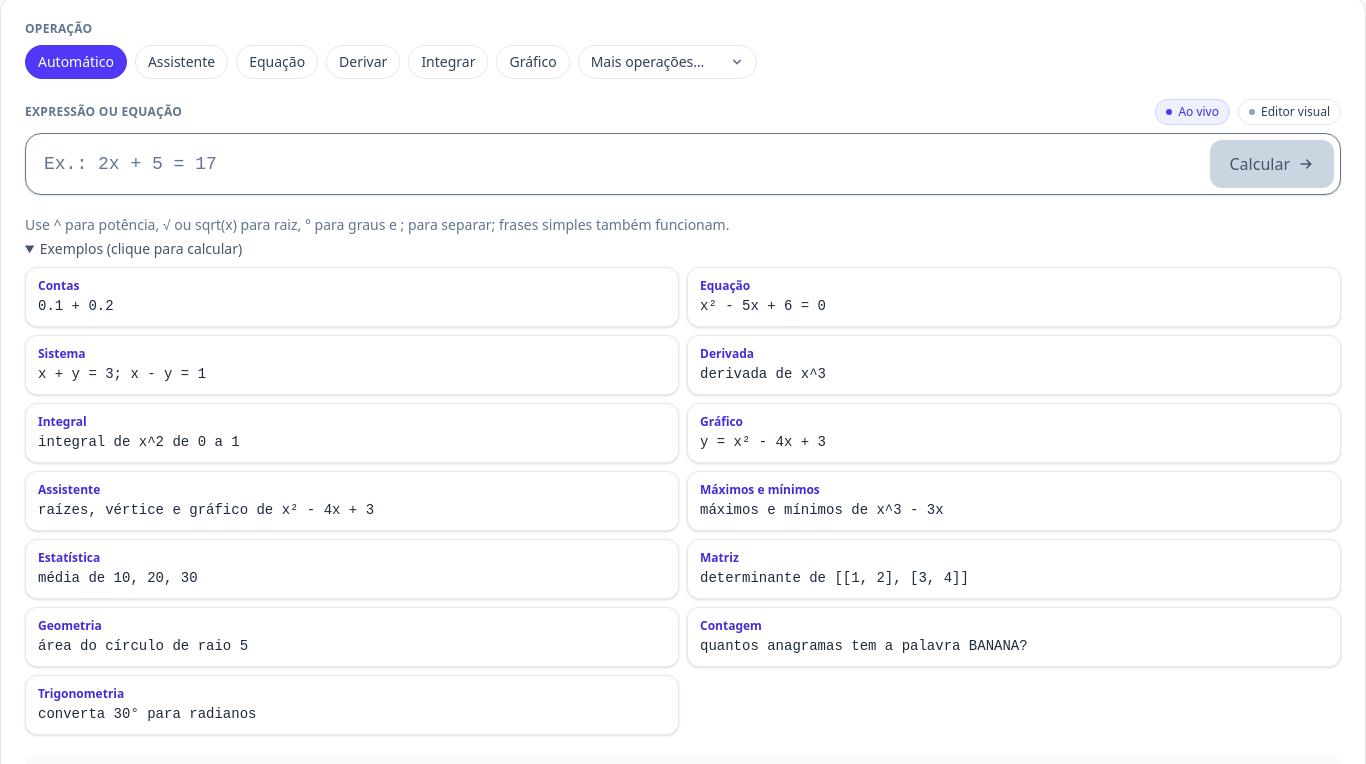
Calculator › says so when a result could not be verified
This screenshot has width=1366, height=764.
Type "sqrt(x - 1000)" into the field labelled "Expressão ou equação" at [617, 164], box [32,140,1202,188]
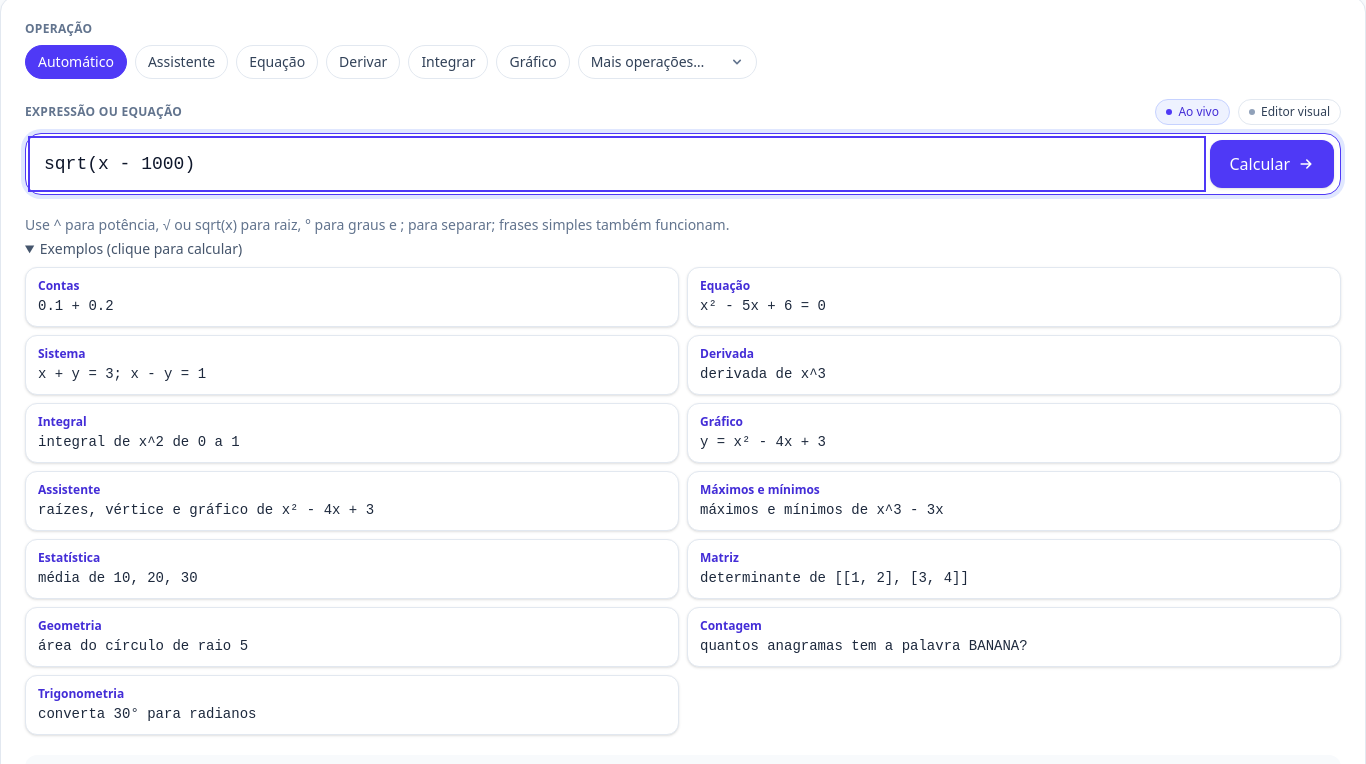
Click the button "Calcular" at [1272, 164], box [1210,140,1334,188]
(page scrolled)
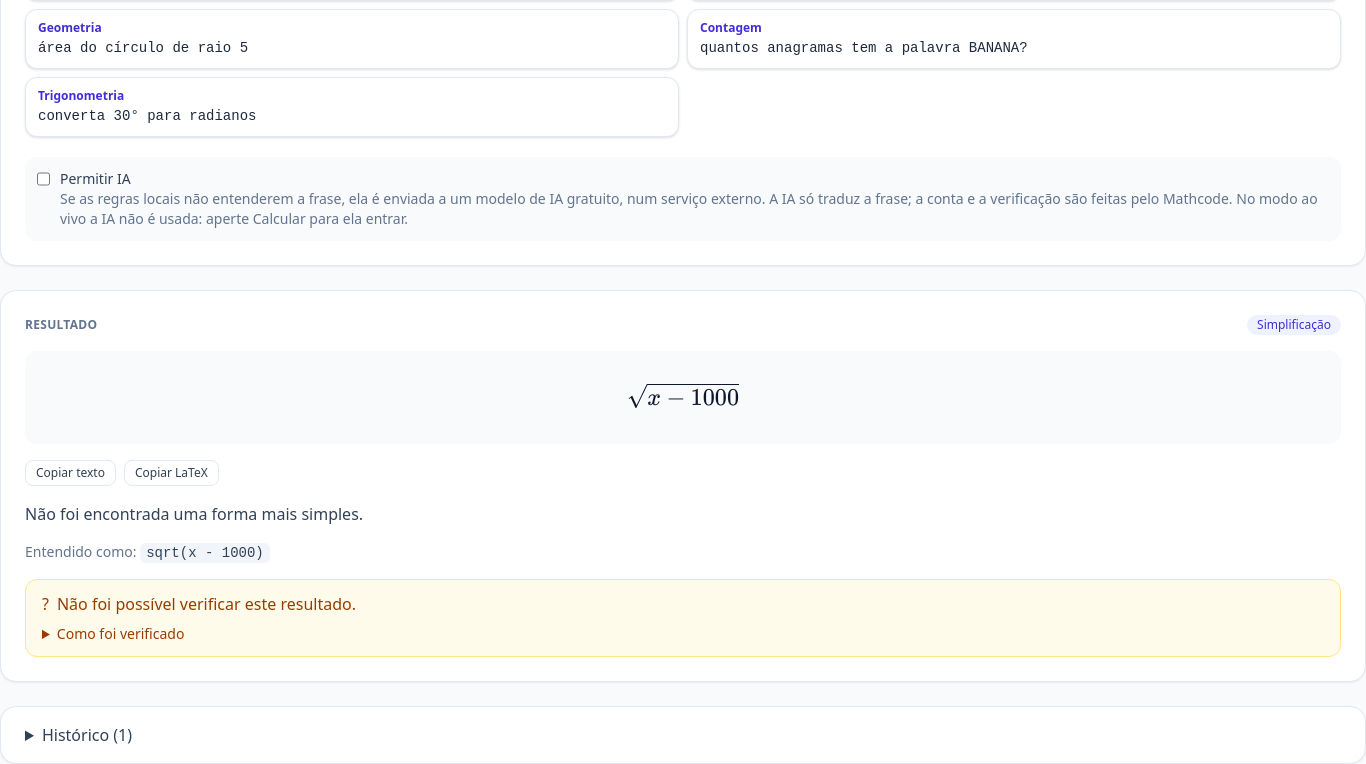
Now the text "Não foi possível verificar este resultado." is shown, box [57,593,356,615]
